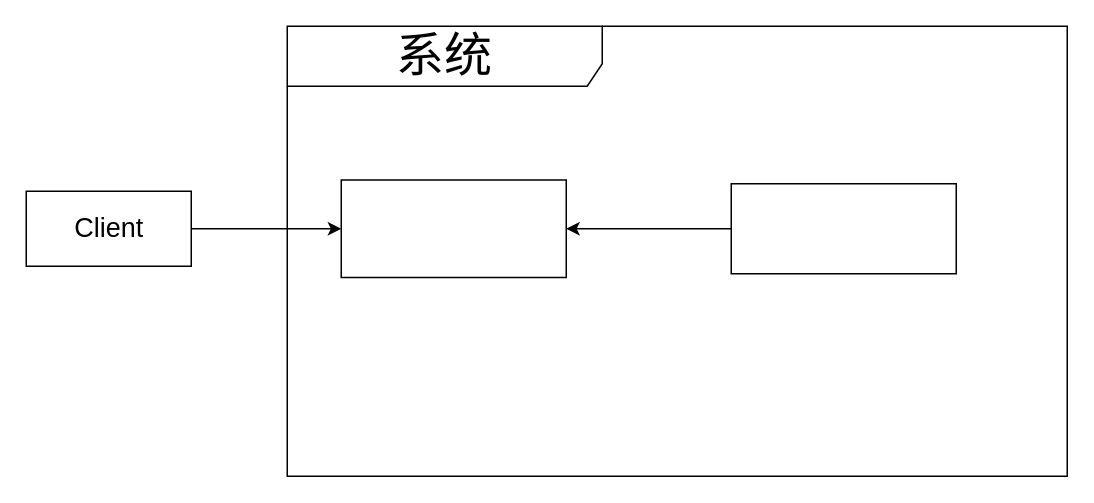
The diagram is 1094 pixels wide and 503 high, and some of its shapes have lost their labels. Each missing label, with the centre of its shape:
Component.vue: the point at 843,228
自定义UI Manager: the point at 453,228
